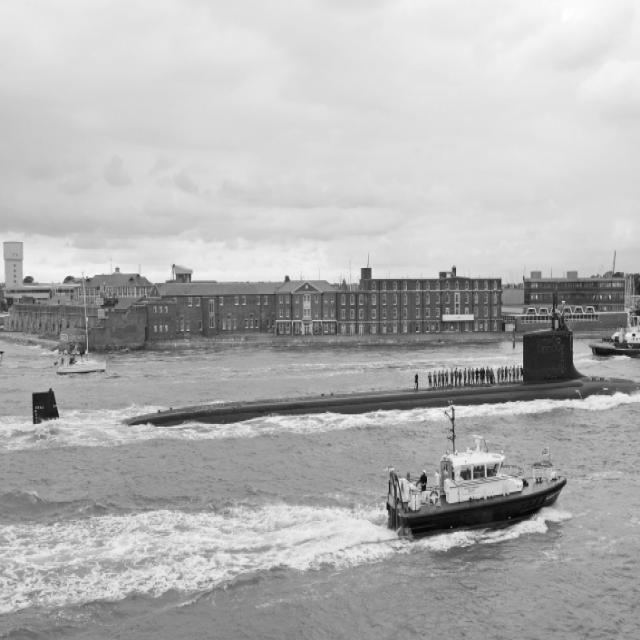submarine: (32, 308, 640, 444)
